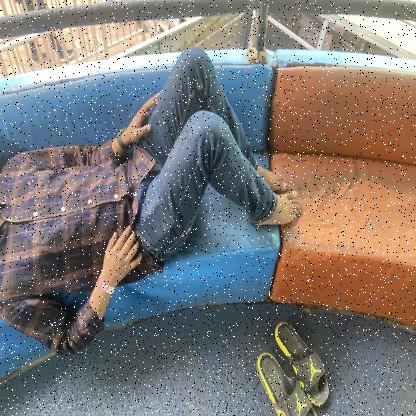hand: (77, 218, 147, 314), (90, 83, 170, 155)
leg: (232, 190, 312, 237), (247, 151, 296, 194)
